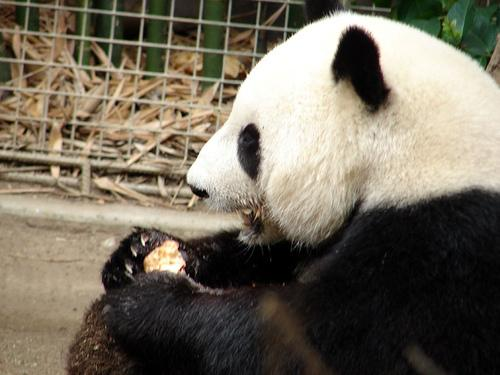panda: (66, 0, 499, 374)
